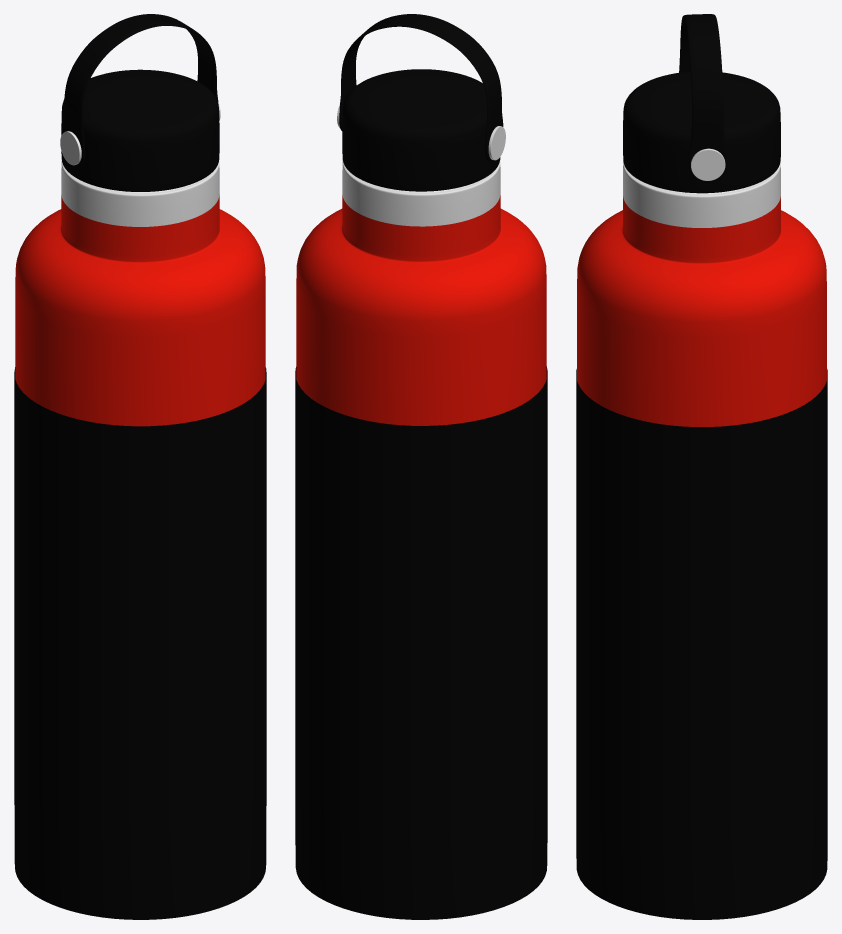
The model's file is Steel bottle.glb.
The picture shows the model from 3 angles, left to right: view 1: azimuth 30°, elevation 25°; view 2: azimuth 150°, elevation 25°; view 3: azimuth 270°, elevation 25°; orthographic projection.
Visible parts, largest first — view 1: Circle.009, Circle, Circle.001; view 2: Circle.009, Circle, Circle.001; view 3: Circle.009, Circle, Circle.001.
Part boxes in pixels (<box>): Circle.009: <box>14,367,266,919</box>; Circle: <box>15,14,265,426</box>; Circle.001: <box>60,103,220,165</box>; Circle.009: <box>295,366,547,919</box>; Circle: <box>296,14,546,425</box>; Circle.001: <box>337,104,505,160</box>; Circle.009: <box>576,369,827,919</box>; Circle: <box>577,14,826,426</box>; Circle.001: <box>691,148,725,180</box>.
Bounding box in the file's own units: 2 × 7.4 × 2.
Materials: 4 (1 with a texture image).
